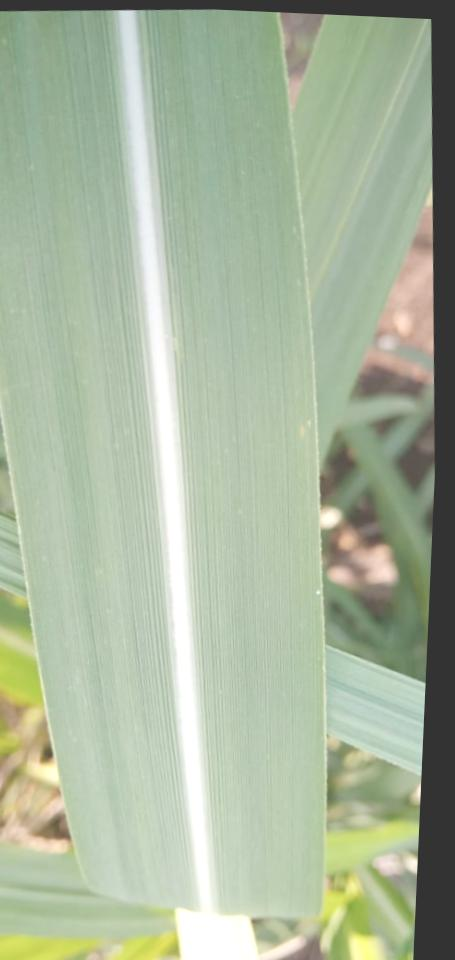Healthy: (0, 11, 194, 912), (144, 10, 323, 913), (291, 14, 431, 455), (324, 644, 426, 775), (0, 513, 25, 597)
